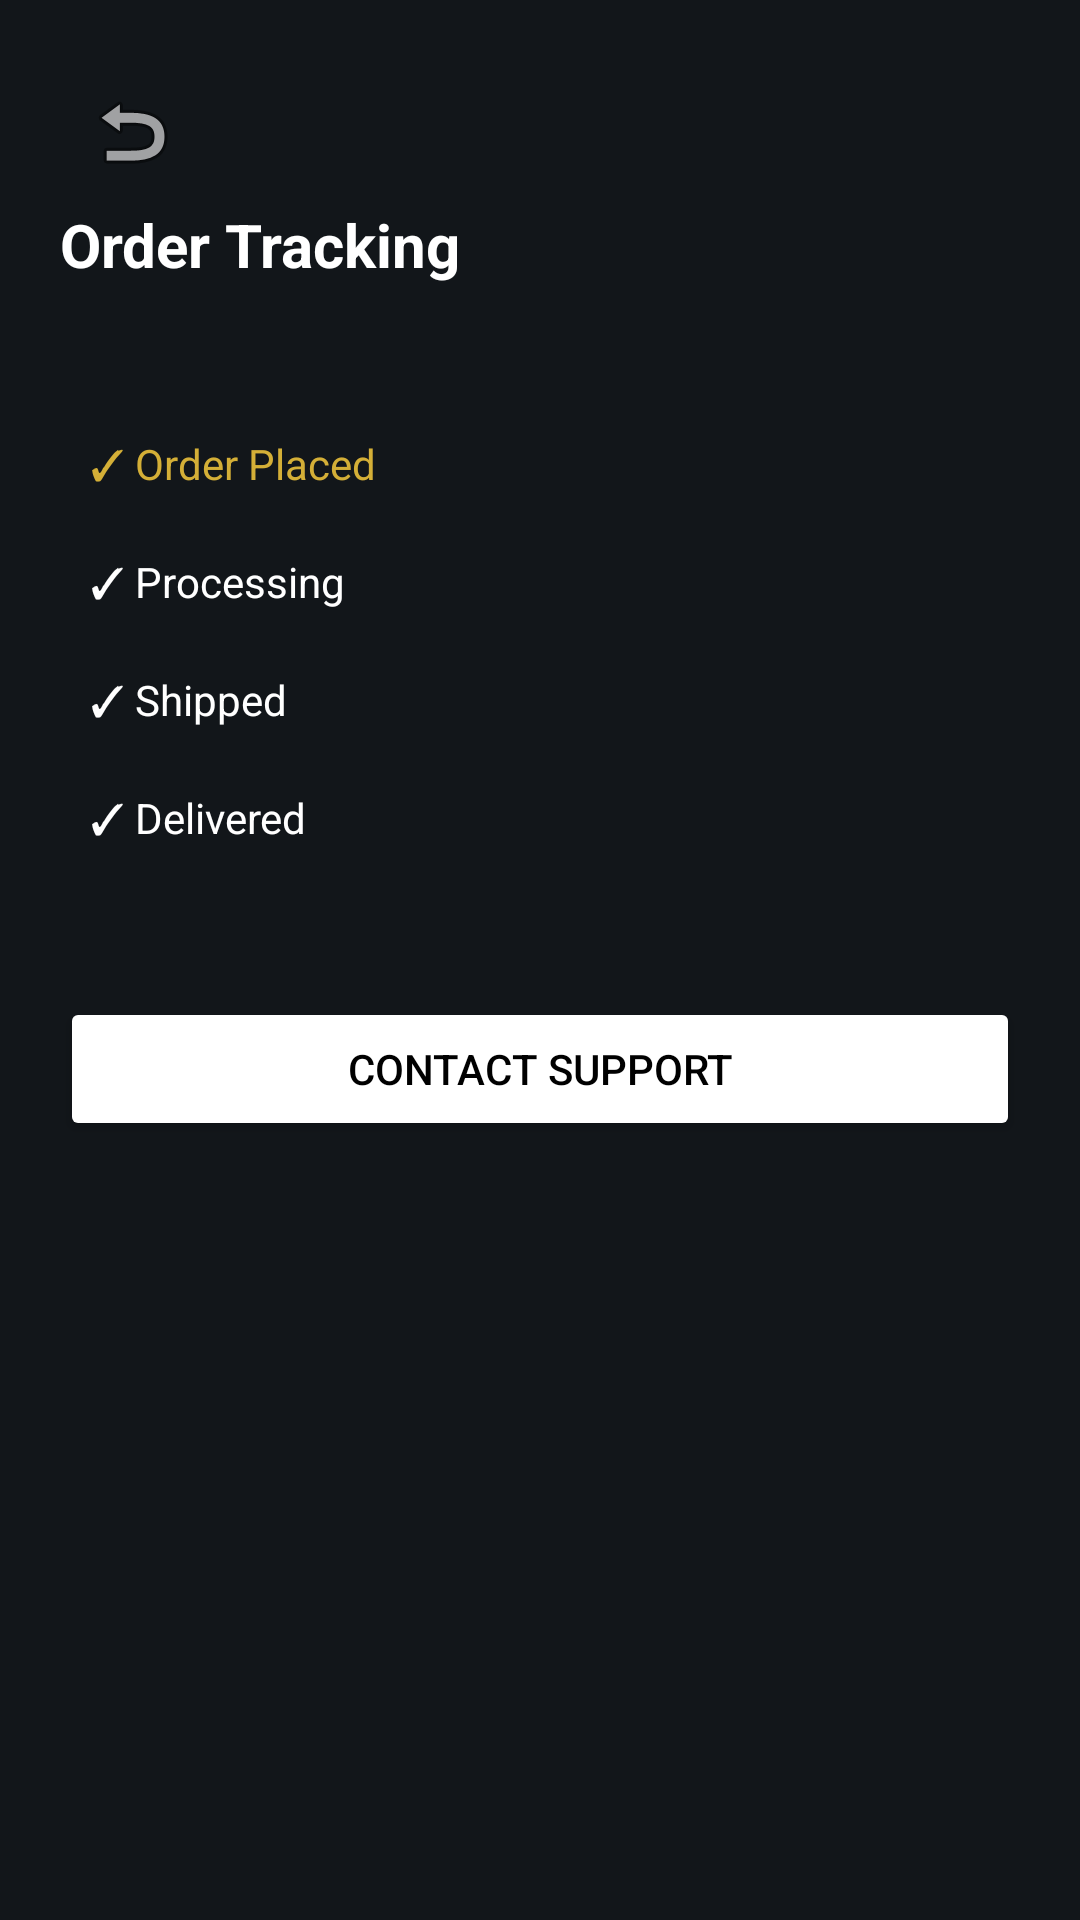

Screen size 1080px×1920px. Icon name, then its box in pixels as (left=x1, top=y1, right=x2, bottom=y2):
Back Button: (left=102, top=104, right=165, bottom=161)
